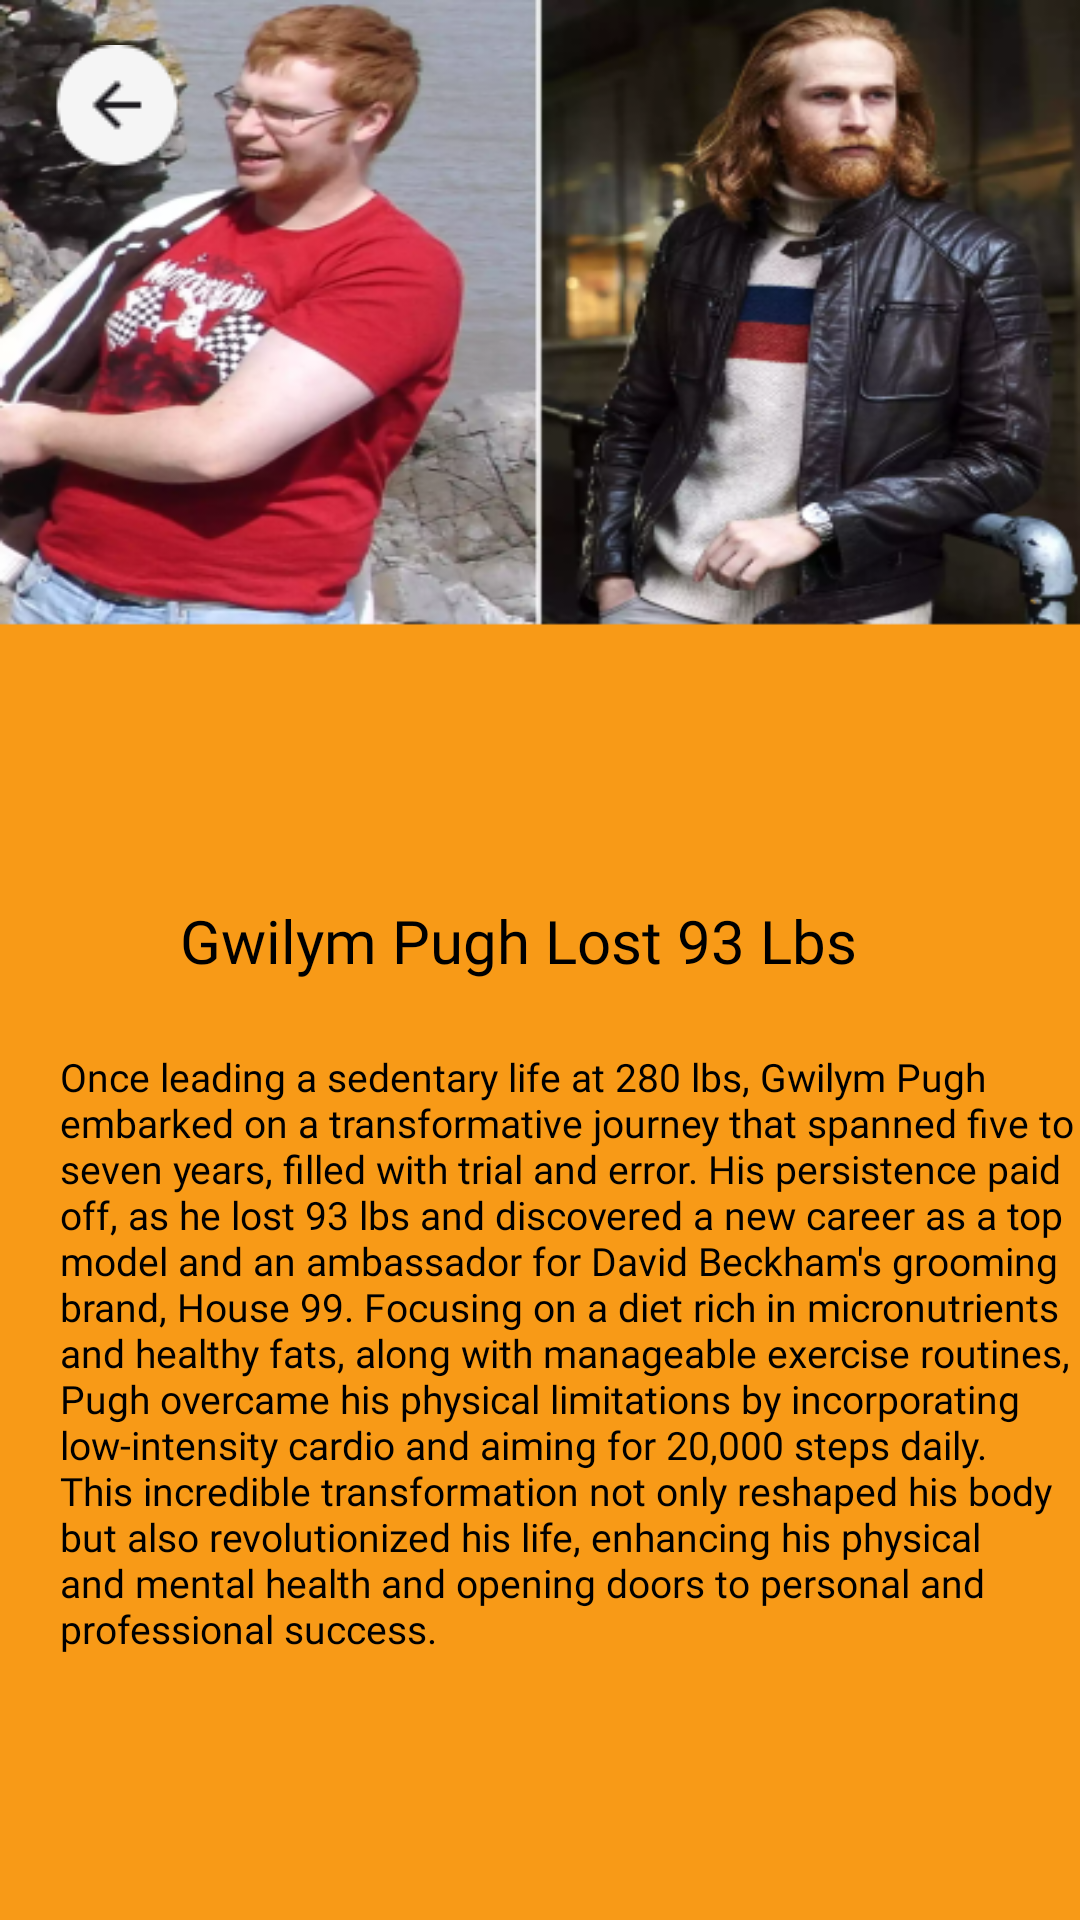

Screen size 1080 × 1920. Icon name, then its center in pixels as (x=x, y=y):
back: (x=117, y=117)
